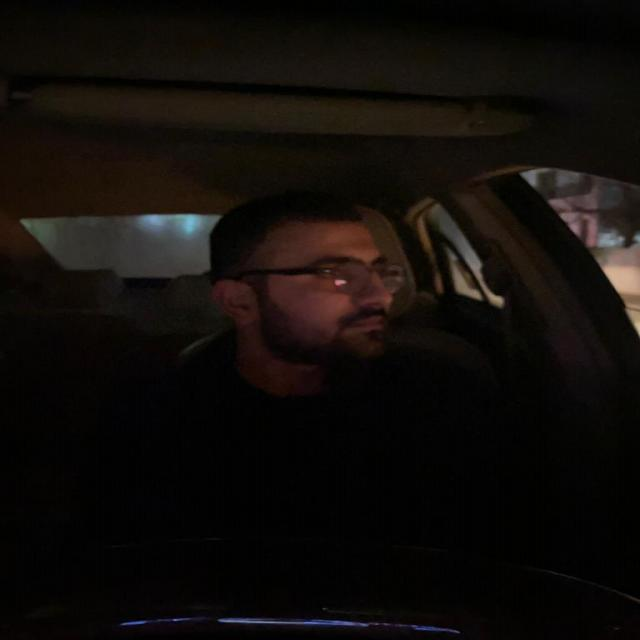LeftRight: (206, 182, 412, 370)
